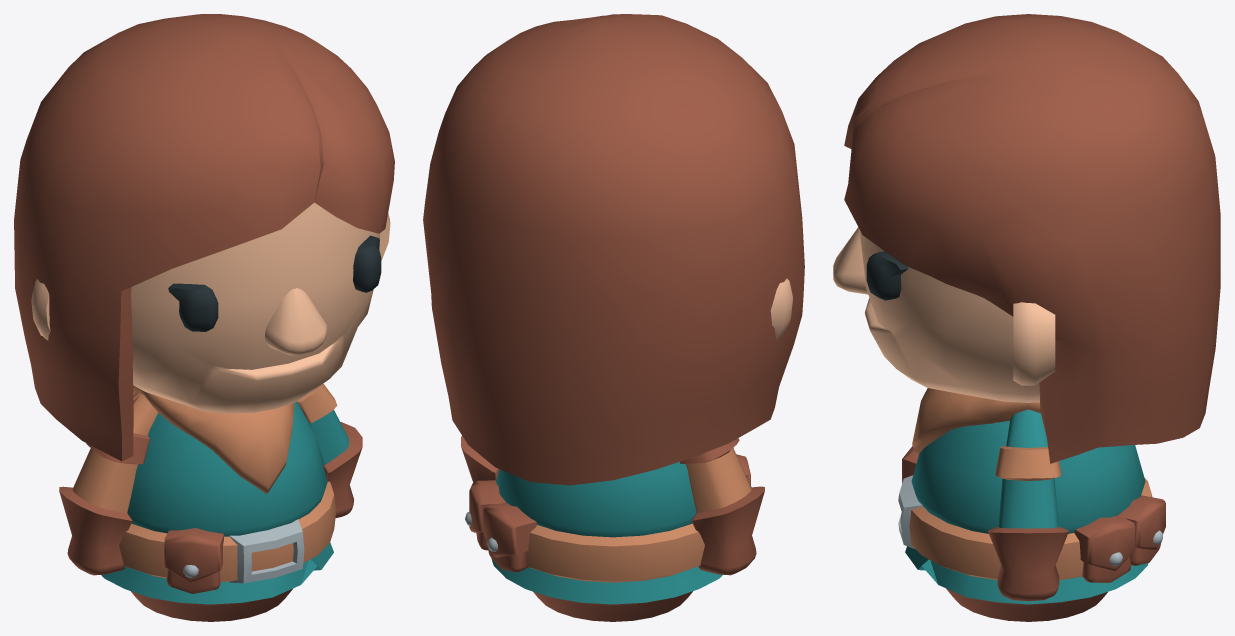
File: character_rogue.dae
The picture shows the model from 3 angles, left to right: view 1: azimuth 30°, elevation 25°; view 2: azimuth 150°, elevation 25°; view 3: azimuth 270°, elevation 25°; orthographic projection.
Visible parts, largest first — view 1: character_rogueHair, character_rogueBody, character_rogueHead, character_rogueArmRight, character_rogueArmLeft; view 2: character_rogueHair, character_rogueBody, character_rogueArmRight, character_rogueHead, character_rogueArmLeft; view 3: character_rogueHair, character_rogueBody, character_rogueHead, character_rogueArmLeft.
Part boxes in pixels (x1,y1,x2,y2): character_rogueHair: [14, 14, 394, 461]; character_rogueBody: [101, 385, 336, 621]; character_rogueHead: [31, 202, 390, 413]; character_rogueArmRight: [59, 392, 158, 575]; character_rogueArmLeft: [297, 383, 362, 518]; character_rogueHair: [423, 14, 804, 485]; character_rogueBody: [465, 454, 751, 621]; character_rogueArmRight: [680, 438, 764, 575]; character_rogueHead: [770, 278, 792, 339]; character_rogueArmLeft: [461, 436, 499, 482]; character_rogueHair: [844, 14, 1220, 463]; character_rogueBody: [898, 388, 1165, 621]; character_rogueHead: [833, 227, 1055, 402]; character_rogueArmLeft: [988, 409, 1068, 601].
Bounding box in the file's own units: 1.18 × 1.12 × 1.77.
